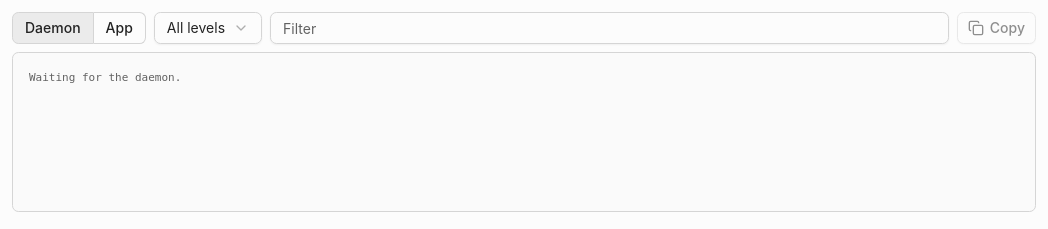
it: shows the log of the app with the records it keeps and each new one
Click the radio button labelled "App" at (120, 28), box [94,12,146,44]
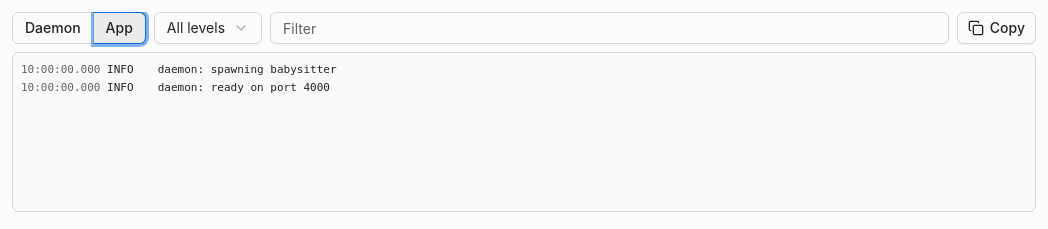
Result: the text "daemon: spawning babysitter" is shown at [158,63,336,76]
Result: the text "daemon: ready on port 4000" is shown at [158,81,330,94]
